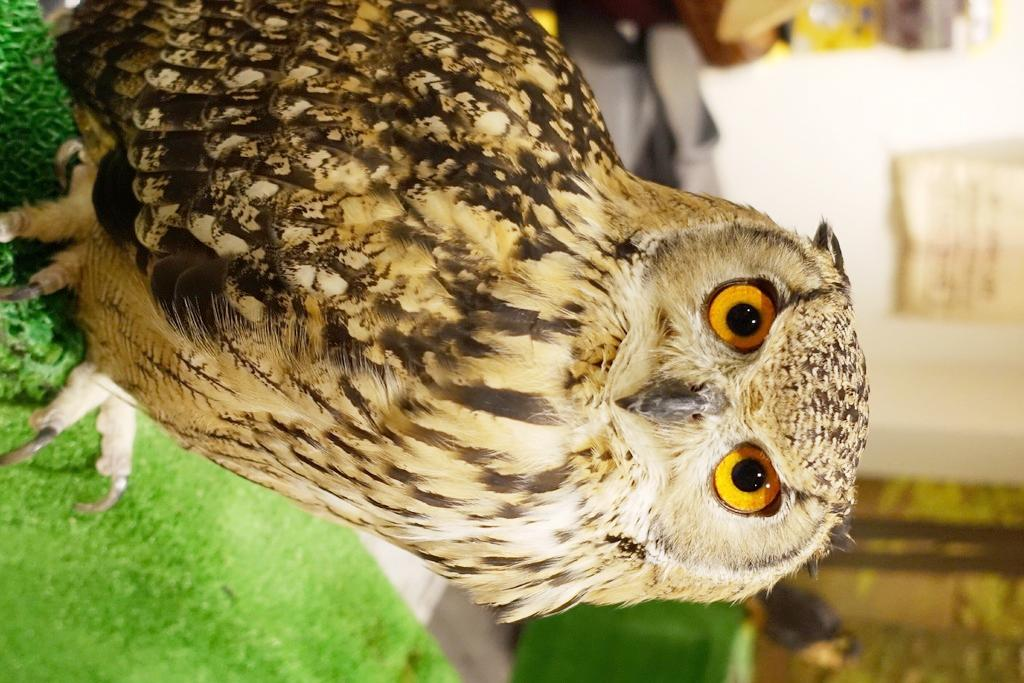Owl: (0, 0, 874, 625)
